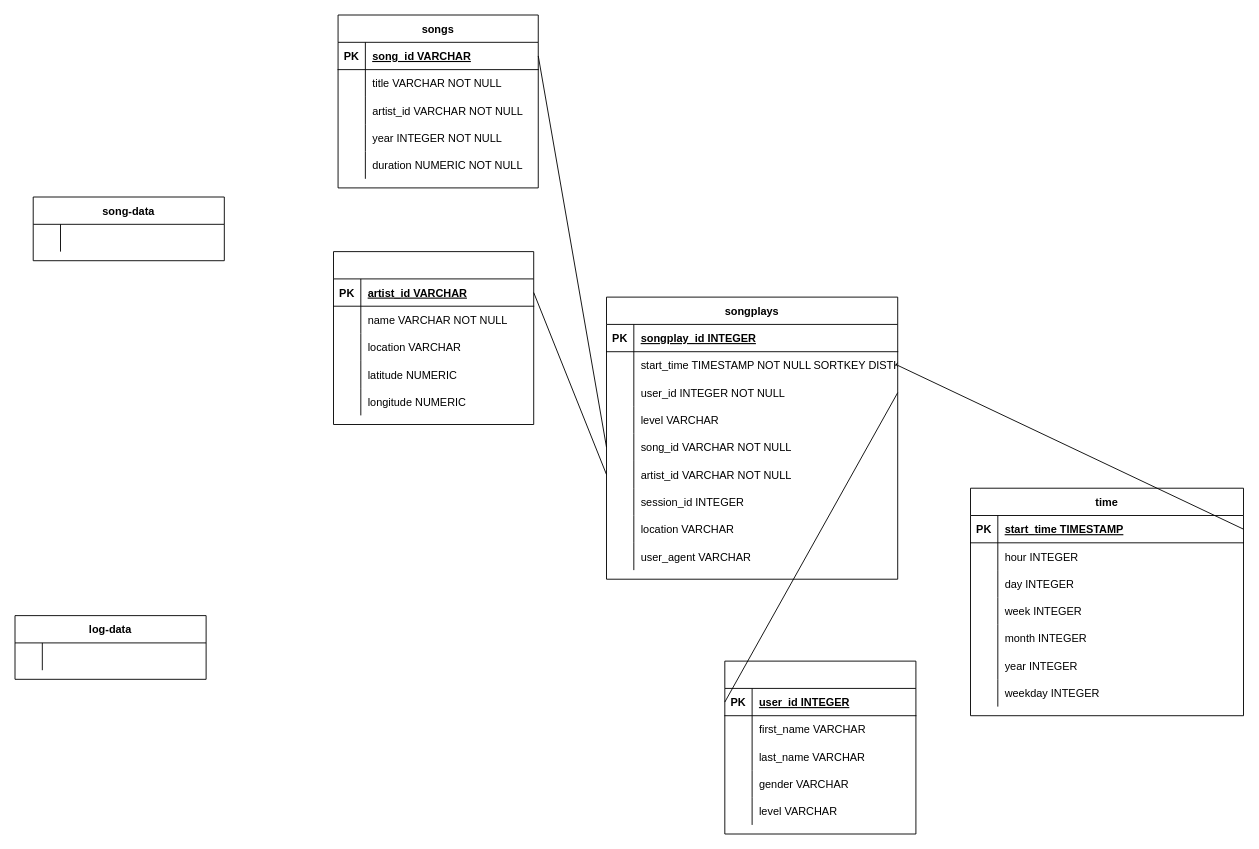
Some shapes in this 1259 by 849 pixel diagram are drawn without their labels. The shapes that lost their labels are listed below. From the top down, each one's box as (x1, y1, x2, y2) in pixels, then its label:
(333, 251, 534, 425): artists
(724, 660, 916, 834): users
